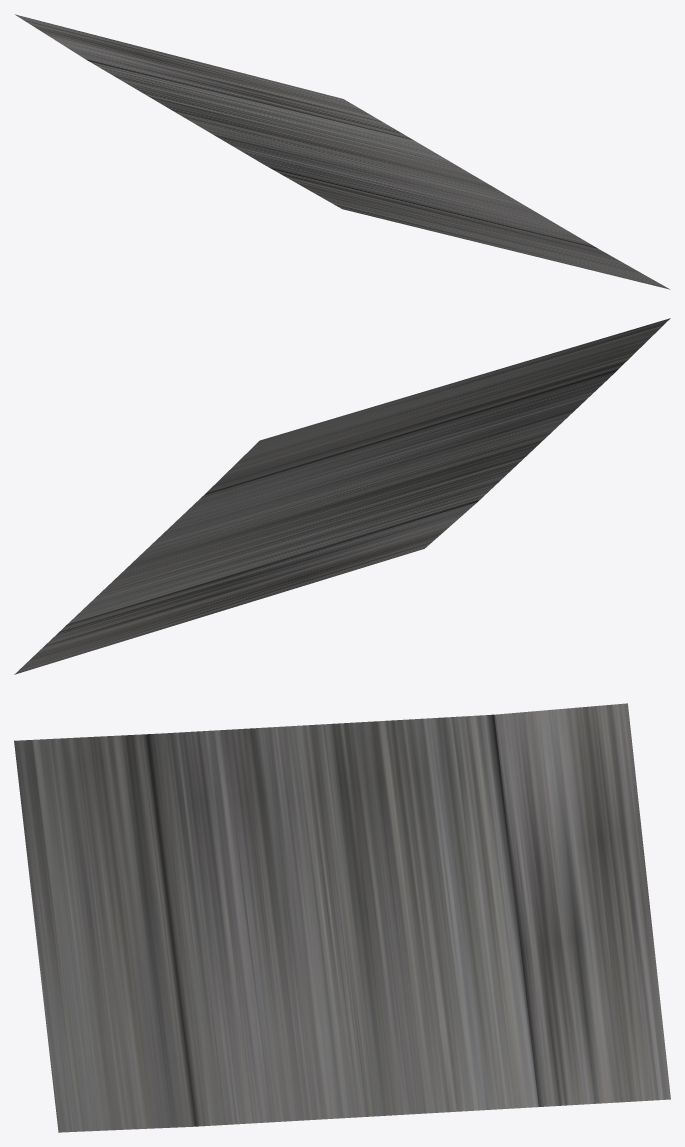
File: StairsCol.fbx
3 views of the same model, one above another, from view 1: azimuth 30°, elevation 25°; view 2: azimuth 150°, elevation 25°; view 3: azimuth 270°, elevation 25° (orthographic). The views are drawn at different scales.
Parts seen in each view (by area): view 1: StairsCol; view 2: StairsCol; view 3: StairsCol.
Part boxes in pixels (x1=…): StairsCol: x1=15, y1=14, x2=669, y2=289; StairsCol: x1=14, y1=318, x2=670, y2=674; StairsCol: x1=14, y1=703, x2=670, y2=1132.
Bounding box in the file's own units: 529 × 236 × 669.
